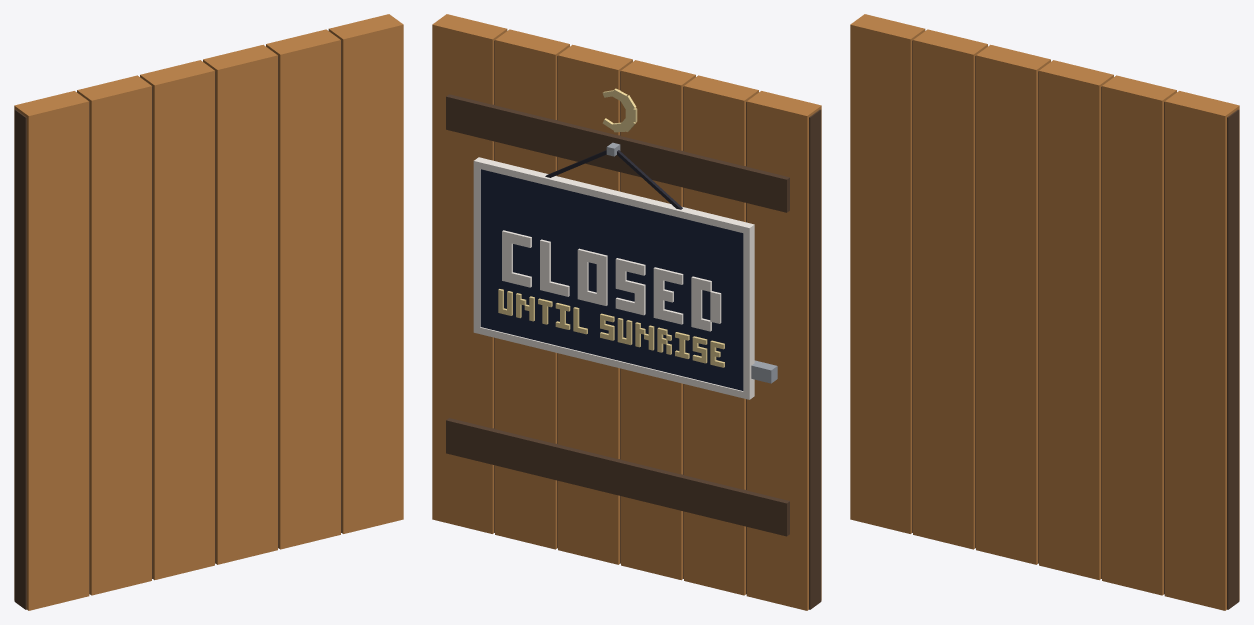
The model's file is CatCafe_Plot_BackDoorClosed.glb.
3 renders of one model, left to right at view 1: azimuth 30°, elevation 25°; view 2: azimuth 150°, elevation 25°; view 3: azimuth 330°, elevation 25°, orthographic.
Visible parts, largest first — view 1: CatCafe_Plot_BackDoorClosed; view 2: CatCafe_Plot_BackDoorClosed, CatCafe_Plot_BackDoorClosed_Sign_Bulb; view 3: CatCafe_Plot_BackDoorClosed.
Boxes of the visible parts, bbox=[...] form: CatCafe_Plot_BackDoorClosed: bbox=[14, 14, 403, 610]; CatCafe_Plot_BackDoorClosed: bbox=[432, 14, 821, 610]; CatCafe_Plot_BackDoorClosed_Sign_Bulb: bbox=[498, 88, 724, 367]; CatCafe_Plot_BackDoorClosed: bbox=[850, 14, 1239, 610].
Size of the model in its own units: 5.98 by 7.49 by 0.65.
Materials: 1 (1 with a texture image).
